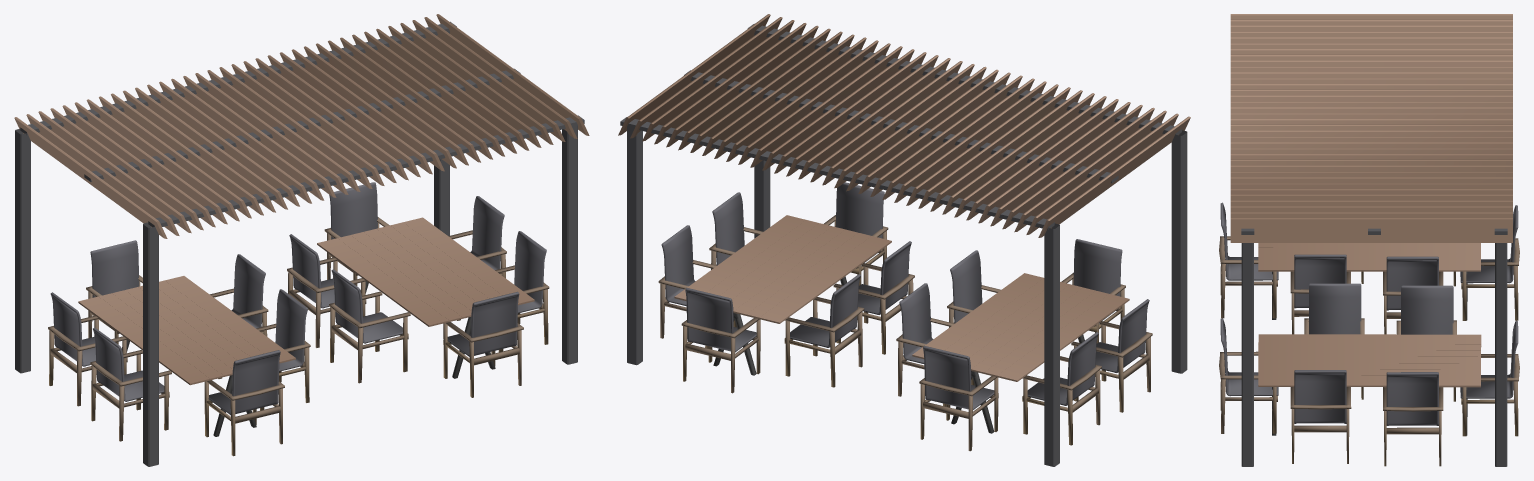
Rendered from Gazebo.fbx.
The picture shows the model from 3 angles, left to right: view 1: azimuth 30°, elevation 25°; view 2: azimuth 150°, elevation 25°; view 3: azimuth 270°, elevation 25°; orthographic projection.
Parts seen in each view (by area): view 1: Plane.058; view 2: Plane.058; view 3: Plane.058.
Part boxes in pixels (<box>): Plane.058: <box>14,14,589,466</box>; Plane.058: <box>618,14,1190,466</box>; Plane.058: <box>1219,14,1519,466</box>.
Size of the model in its own units: 11.07 by 6.67 by 6.08.
